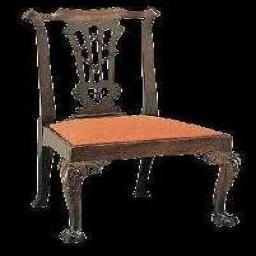Chair: (22, 6, 242, 244)
